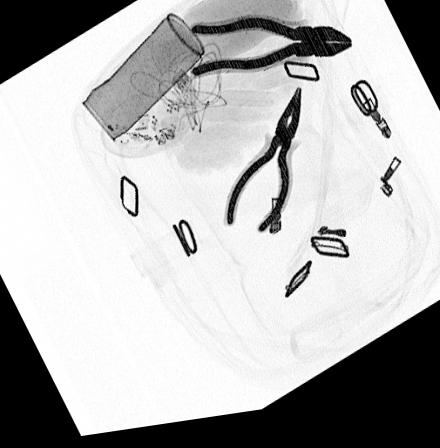Pliers: (221, 93, 304, 242), (187, 21, 354, 87)
